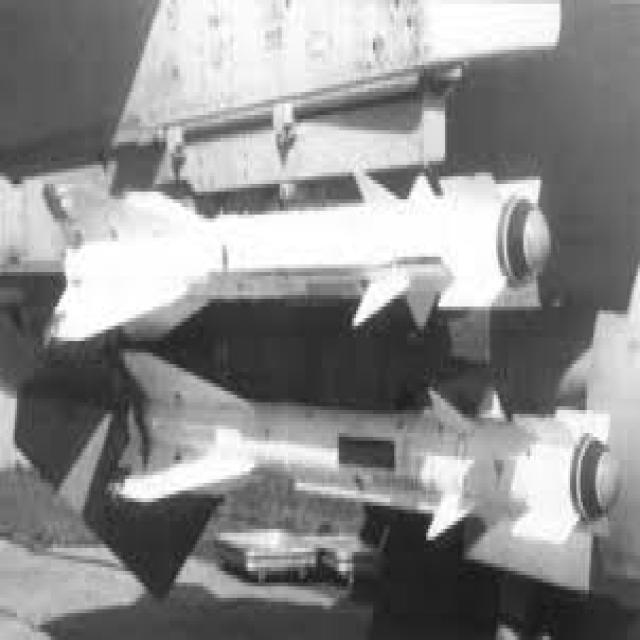missile: (105, 347, 640, 571), (46, 173, 556, 352)
